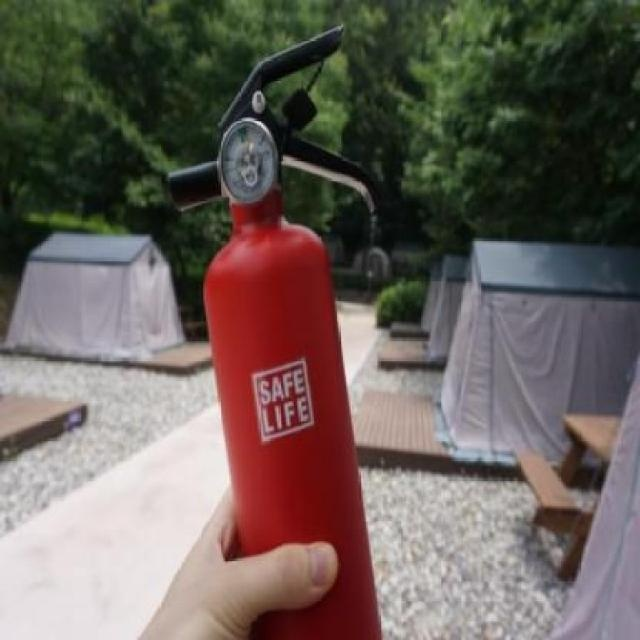fire extinguisher: (168, 24, 383, 640)
